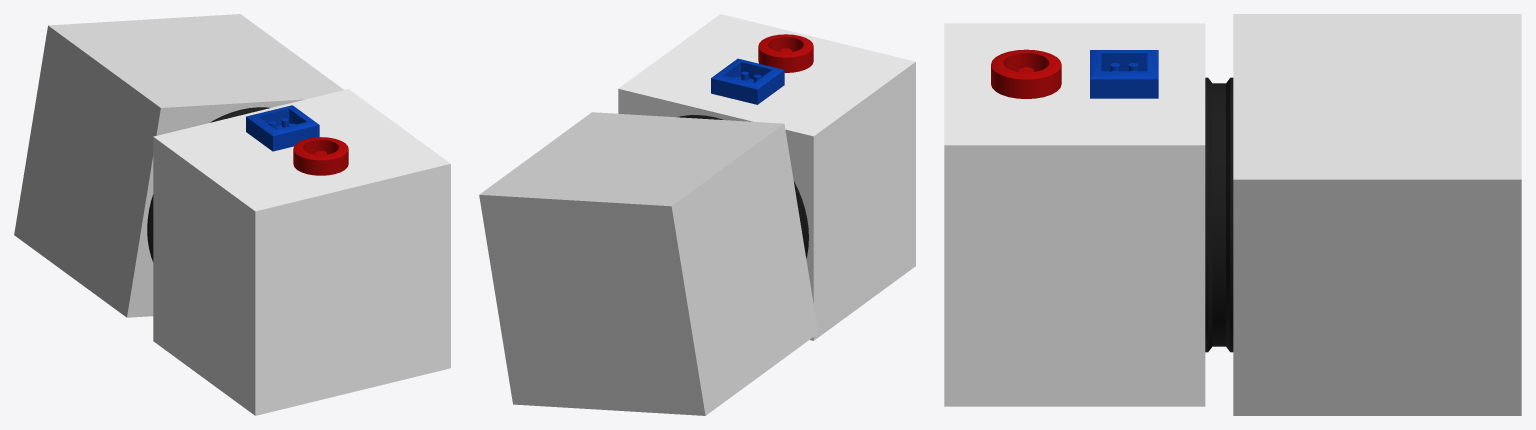
File: SmallPivot.gltf
3 views of the same model, side by side, from view 1: azimuth 30°, elevation 25°; view 2: azimuth 150°, elevation 25°; view 3: azimuth 270°, elevation 25° (orthographic). The views are drawn at different scales.
Visible parts, largest first — view 1: master, slave; view 2: slave, master; view 3: slave, master.
Part boxes in pixels (<box>): master: <box>147,89,450,415</box>; slave: <box>14,14,343,317</box>; slave: <box>479,112,818,415</box>; master: <box>618,14,915,340</box>; slave: <box>1233,14,1521,415</box>; master: <box>944,23,1233,406</box>.
Bounding box in the file's own units: 0.2896 × 0.2905 × 0.5003.
